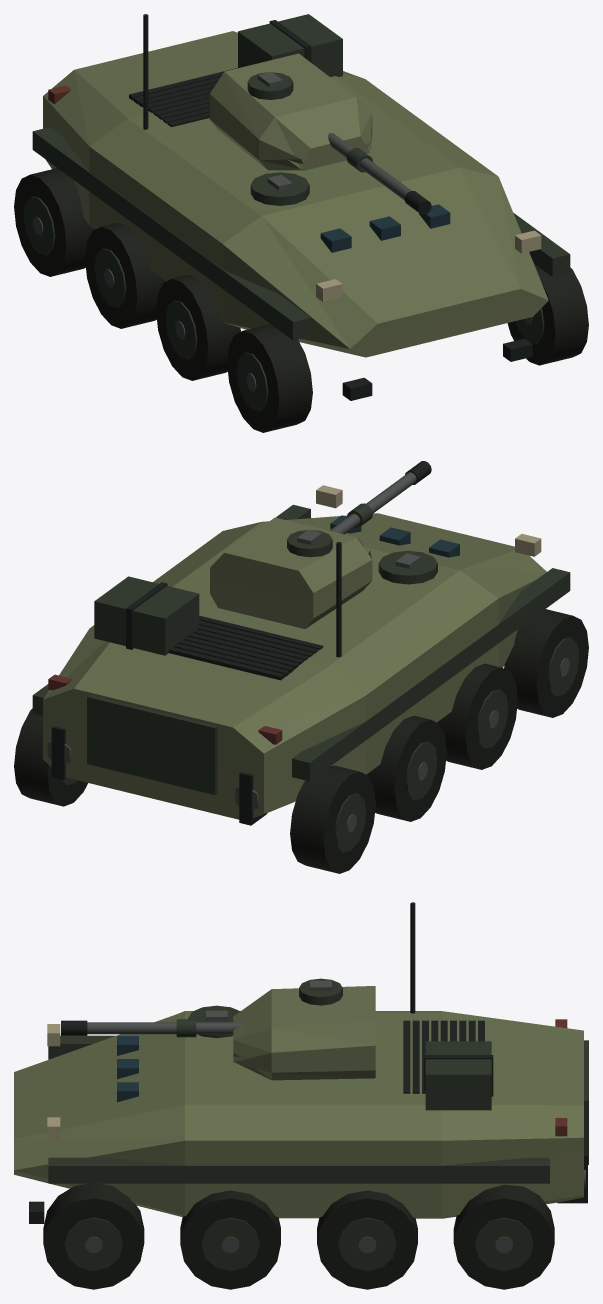
Rendered from apc-lod.glb.
3 views of the same model, one above another, from view 1: azimuth 30°, elevation 25°; view 2: azimuth 150°, elevation 25°; view 3: azimuth 270°, elevation 25° (orthographic). The views are drawn at different scales.
Visible parts, largest first — view 1: equipment (×3); view 2: equipment (×3); view 3: equipment (×3).
Boxes of the visible parts, box(x1,y1,x2,y2) form: equipment (×3): box(14, 14, 588, 432); equipment (×3): box(14, 461, 588, 873); equipment (×3): box(14, 902, 588, 1289).
Size of the model in its own units: 3.19 by 2.7 by 5.24.
